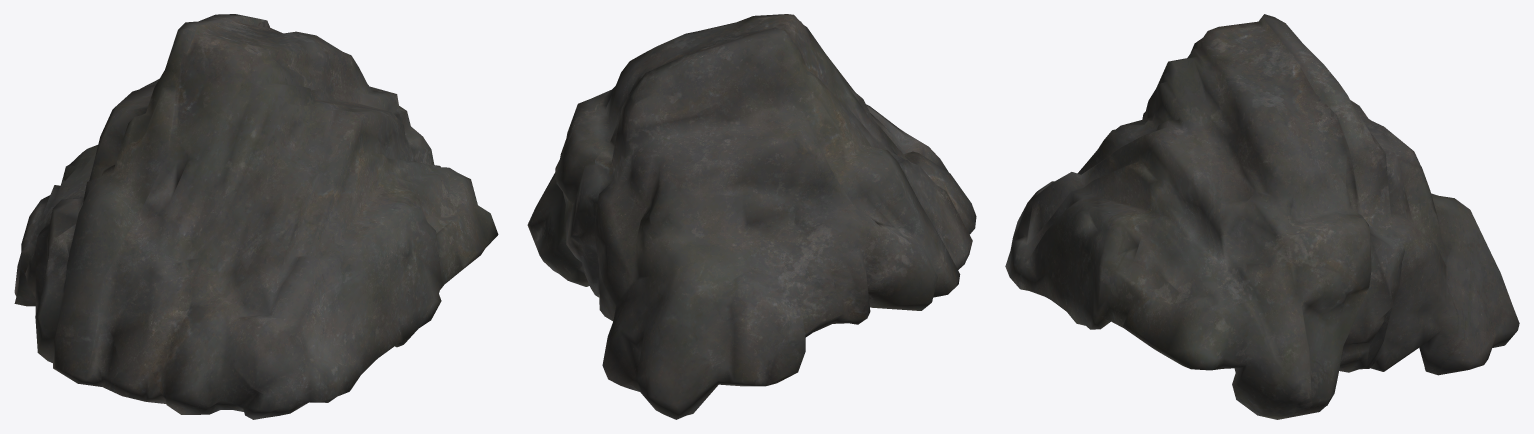
Rendered from Cliff_W2_01.fbx.
3 renders of one model, left to right at view 1: azimuth 30°, elevation 25°; view 2: azimuth 150°, elevation 25°; view 3: azimuth 270°, elevation 25°, orthographic. The views are drawn at different scales.
Visible parts, largest first — view 1: SM_W2_Cliff_01.mo; view 2: SM_W2_Cliff_01.mo; view 3: SM_W2_Cliff_01.mo.
Part boxes in pixels (x1=…): SM_W2_Cliff_01.mo: x1=14, y1=14, x2=498, y2=419; SM_W2_Cliff_01.mo: x1=527, y1=14, x2=976, y2=419; SM_W2_Cliff_01.mo: x1=1005, y1=14, x2=1519, y2=419.
Bounding box in the file's own units: 3369 × 2597 × 3646.
Materials: 1 (1 with a texture image).
